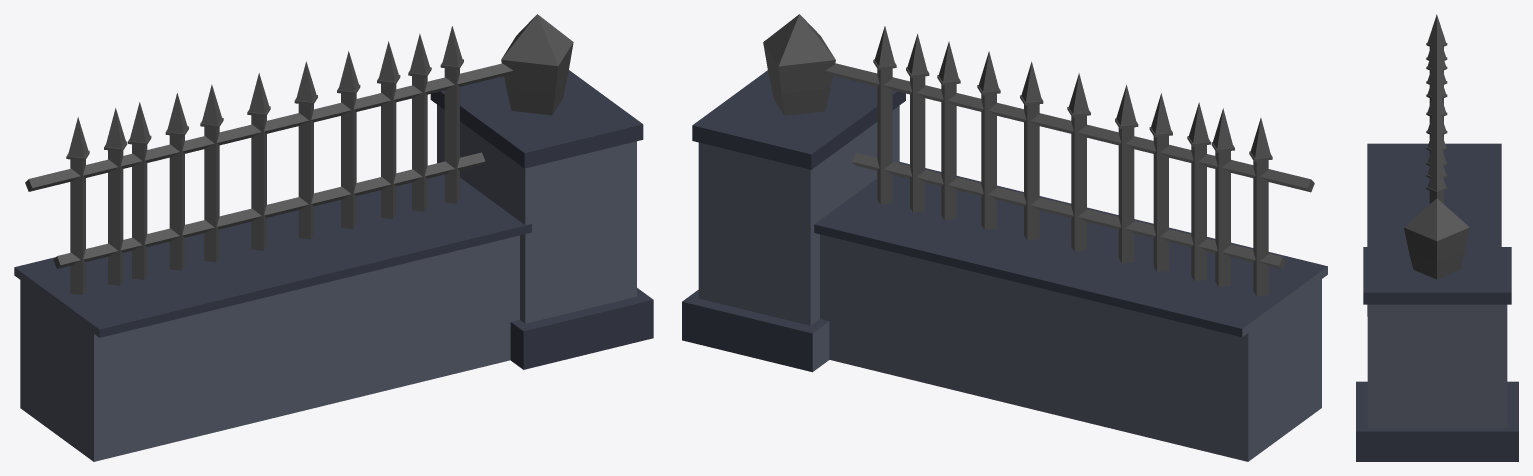
Rendered from Mesh_graveyard_fence_2.fbx.
3 views of the same model, side by side, from view 1: azimuth 30°, elevation 25°; view 2: azimuth 150°, elevation 25°; view 3: azimuth 270°, elevation 25° (orthographic). The views are drawn at different scales.
Visible parts, largest first — view 1: graveyard_fence_2; view 2: graveyard_fence_2; view 3: graveyard_fence_2.
Part boxes in pixels (box(x1,y1,x2,y2)): graveyard_fence_2: box(14, 14, 653, 461); graveyard_fence_2: box(682, 14, 1327, 461); graveyard_fence_2: box(1356, 14, 1518, 461).
Bounding box in the file's own units: 294 × 153 × 91.55.
1 material, 1 textured.
